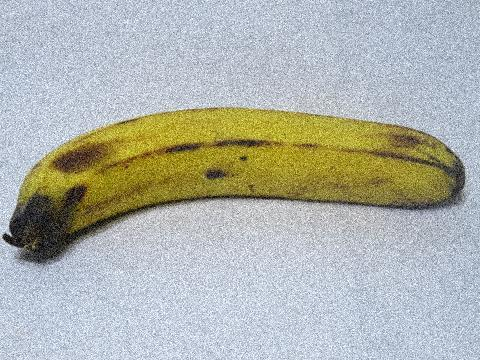ripe: (23, 96, 463, 266)
